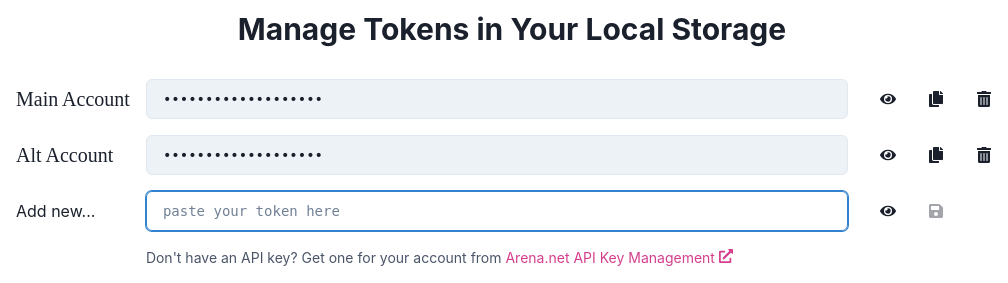
Test: Settings › swaps copy icon to checkmark after copying a token
Step 1. Click the 1st button named "Copy token" → (936, 99), box [912, 79, 960, 119]
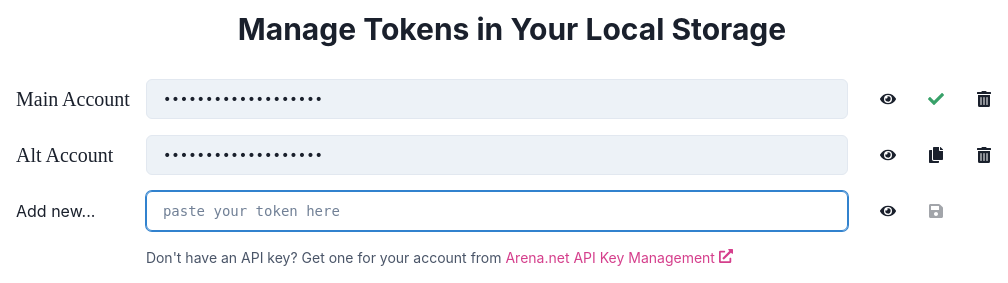
Expected: the button named "Copy token" is shown, [912, 135, 960, 175]
Expected: the button named "Copied" is shown, [912, 79, 960, 119]
